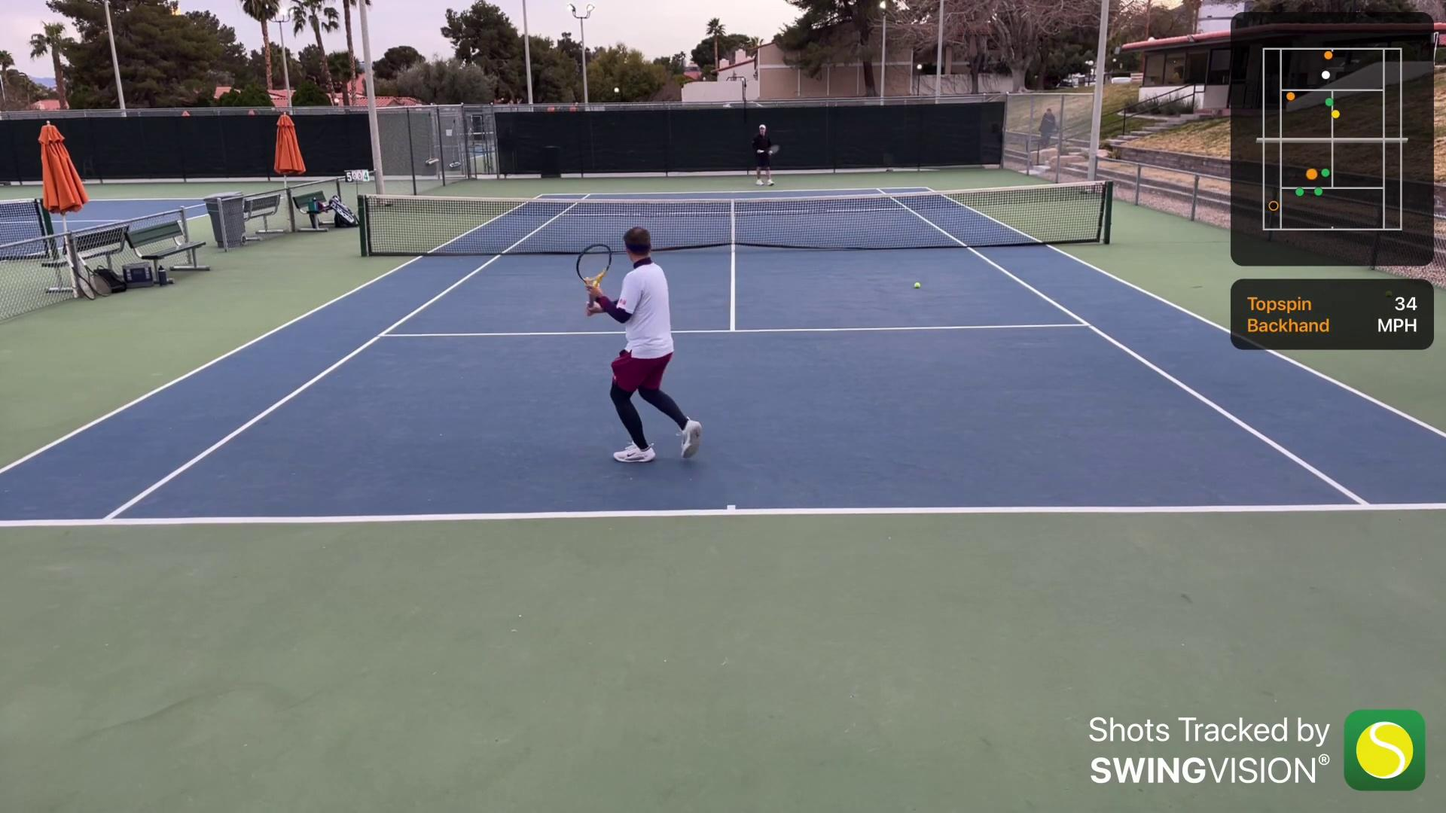ball: (914, 280, 923, 291), (592, 280, 601, 289)
